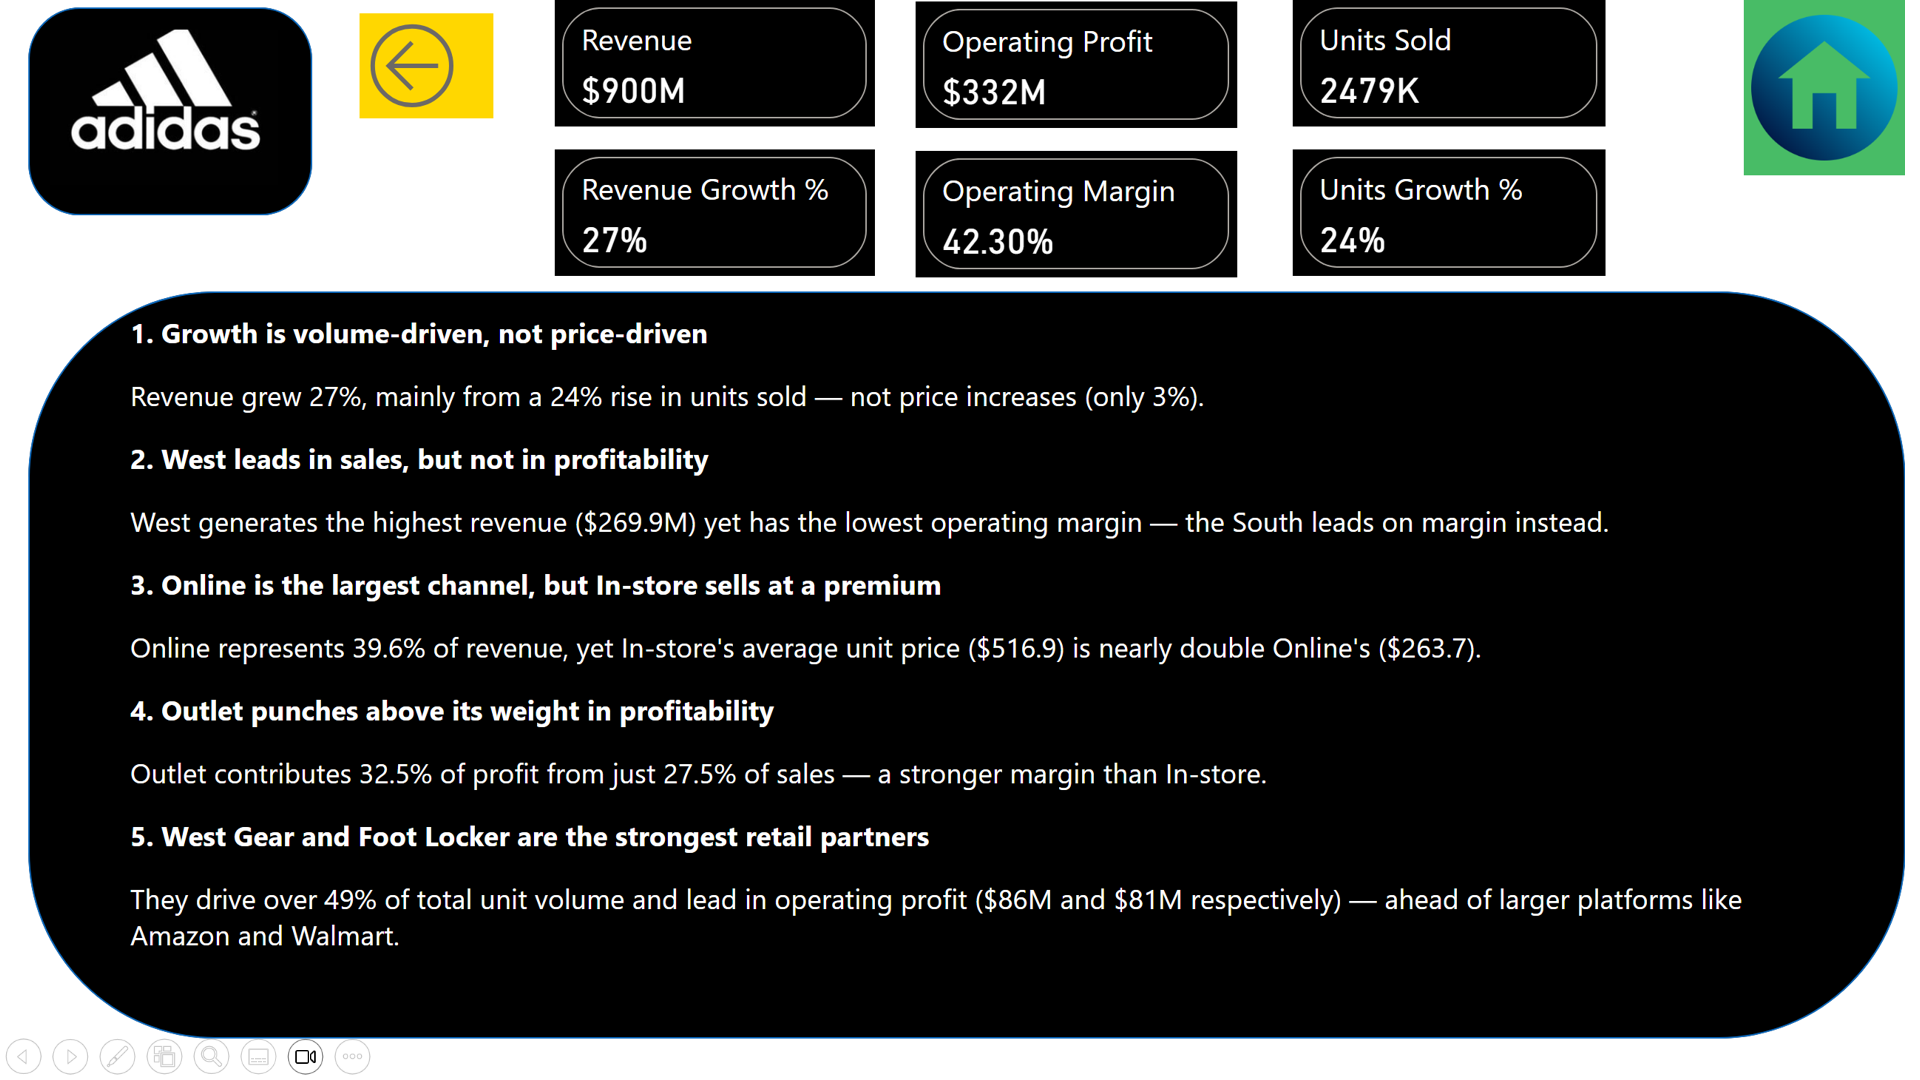

Layout of this report page (visuals, bound fields, positions):
{"tool":"powerbi","page":{"name":"Executive Summary","canvas":[1280,720],"ordinal":1},"visuals":[{"type":"shape","box":[11,4.9,192,140.6],"z":0},{"type":"image","box":[20.8,14.7,163.9,114.9],"z":1000},{"type":"cardVisual","fields":{"Data":["Sum(Data Sales.Units Sold)"]},"box":[865.8,0,211.6,85.6],"z":2000},{"type":"shape","box":[11,196.9,1269.3,505],"z":3000},{"type":"cardVisual","fields":{"Data":["Sum(Data Sales.Total Sales)"]},"box":[366.8,0,216.4,85.6],"z":4000},{"type":"cardVisual","fields":{"Data":["Data Sales.Units Growth %"]},"box":[865.8,101.5,211.6,85.6],"z":5000},{"type":"cardVisual","fields":{"Data":["Sum(Data Sales.Operating Profit)"]},"box":[611.2,1,217.7,85.6],"z":6000},{"type":"cardVisual","fields":{"Data":["Data Sales.Revenue Growth %"]},"box":[366.8,101.5,216.4,85.6],"z":7000},{"type":"cardVisual","fields":{"Data":["Avg(Data Sales.Operating Margin)"]},"box":[611.2,102.5,217.7,85.6],"z":8000},{"type":"actionButton","box":[234.8,8.6,90.5,70.9],"z":9000},{"type":"textbox","box":[74.6,206.7,1126.2,470.8],"z":10000},{"type":"image","box":[1171.5,0,108.8,118.6],"z":11000}]}

Visuals, with their boxes on the page's 1280x720 design canvas (x1, y1, x2, y2). These are canvas units, not pixel positions in the 1920x1080 screenshot, which may show the page scaled, cropped or inside an application window:
shape: bbox=(11, 5, 203, 146)
image: bbox=(21, 15, 185, 130)
cardVisual - Sum(Data Sales.Units Sold): bbox=(866, 0, 1077, 86)
shape: bbox=(11, 197, 1280, 702)
cardVisual - Sum(Data Sales.Total Sales): bbox=(367, 0, 583, 86)
cardVisual - Data Sales.Units Growth %: bbox=(866, 102, 1077, 187)
cardVisual - Sum(Data Sales.Operating Profit): bbox=(611, 1, 829, 87)
cardVisual - Data Sales.Revenue Growth %: bbox=(367, 102, 583, 187)
cardVisual - Avg(Data Sales.Operating Margin): bbox=(611, 102, 829, 188)
actionButton: bbox=(235, 9, 325, 80)
textbox: bbox=(75, 207, 1201, 678)
image: bbox=(1172, 0, 1280, 119)
